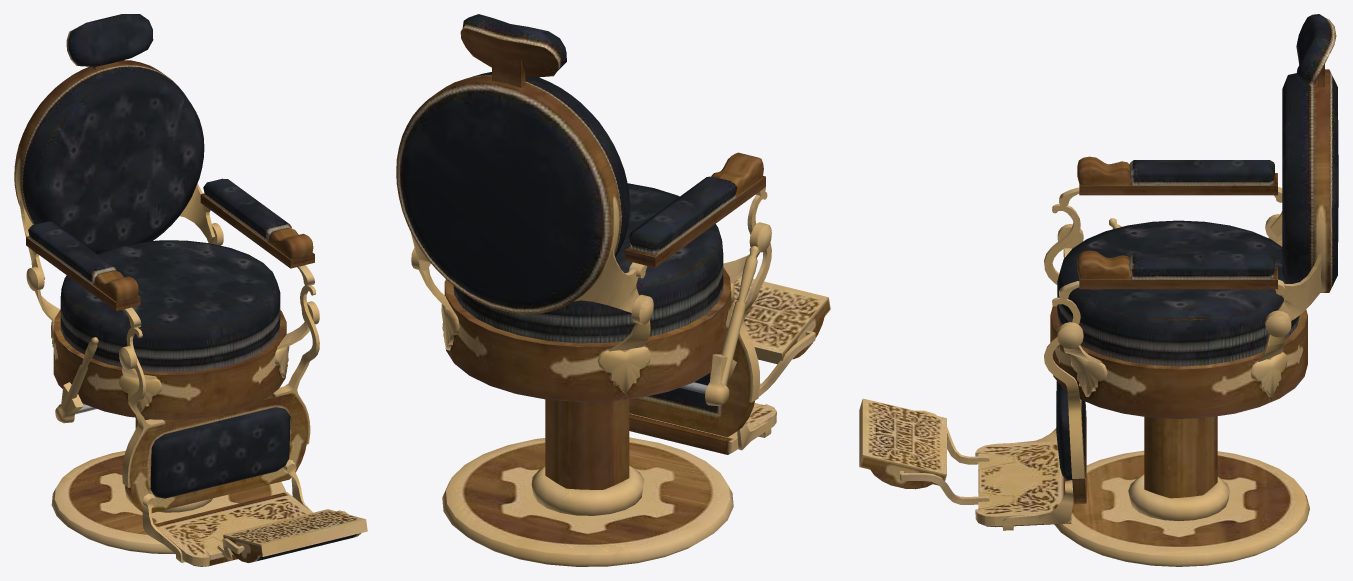
Rendered from BarberShopChair_01.glb.
3 views of the same model, side by side, from view 1: azimuth 30°, elevation 25°; view 2: azimuth 150°, elevation 25°; view 3: azimuth 270°, elevation 25° (orthographic). The views are drawn at different scales.
Visible parts, largest first — view 1: BarberShopChair_01; view 2: BarberShopChair_01; view 3: BarberShopChair_01.
Boxes of the visible parts, x1,y1,x2,y2 form: BarberShopChair_01: (14, 14, 367, 566); BarberShopChair_01: (396, 14, 830, 566); BarberShopChair_01: (859, 14, 1338, 566).
Bounding box in the file's own units: 0.7565 × 1.49 × 1.33.
Materials: 1 (1 with a texture image).
